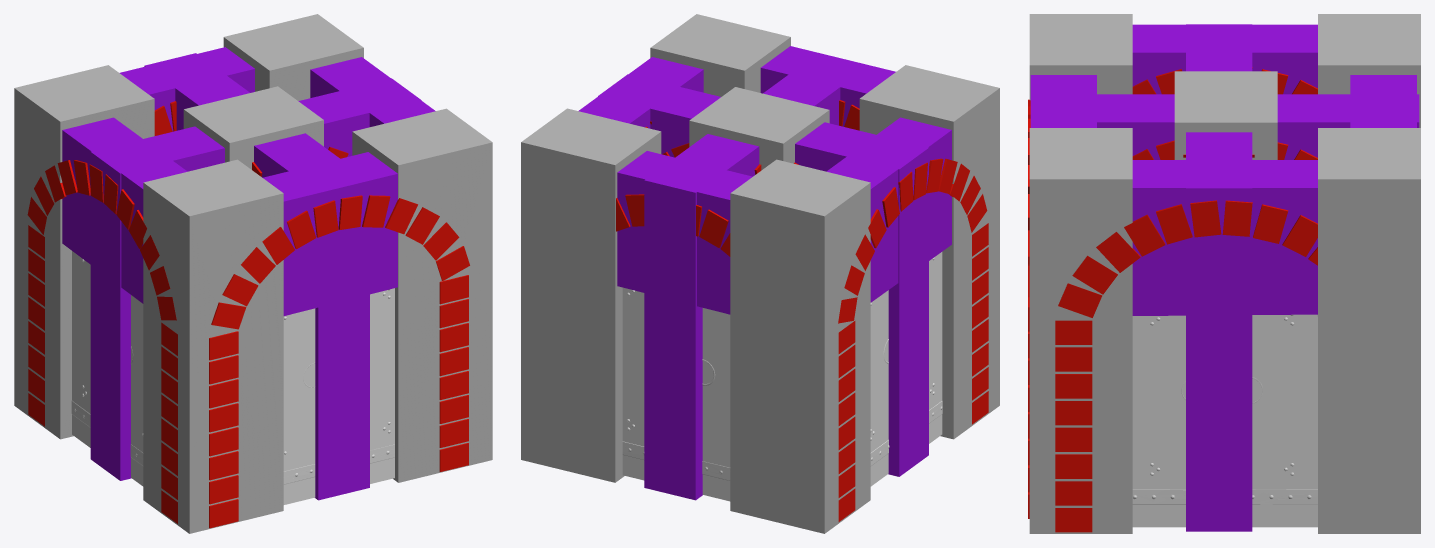
The model's file is group acrh pillars.fbx.
3 renders of one model, left to right at view 1: azimuth 30°, elevation 25°; view 2: azimuth 150°, elevation 25°; view 3: azimuth 270°, elevation 25°, orthographic. The views are drawn at different scales.
Visible parts, largest first — view 1: Pillar.001, Arch Way.004, Pillar, Pillar.003, Arch Way.002, Arch Way.005, Arch Way, og dOOR.005, Pillar.002, Pillar.004, og dOOR.003, Arch Way.003 (+1 smaller); view 2: Pillar.003, Pillar.002, Arch Way, Pillar.001, Arch Way.002, Arch Way.005, Arch Way.003, og dOOR.004, Pillar, Pillar.004, og dOOR.003, Arch Way.001 (+1 smaller); view 3: Pillar.002, Arch Way.001, Pillar, Arch Way.005, og dOOR.002, Arch Way, Arch Way.002, Pillar.004, Pillar.001, Pillar.003, Arch Way.003, Arch Way.004.
Boxes of the visible parts, x1,y1,x2,y2 form: Pillar.001: (143, 159, 283, 533); Arch Way.004: (209, 152, 469, 528); Pillar: (352, 108, 492, 482); Pillar.003: (14, 65, 154, 439); Arch Way.002: (27, 117, 187, 523); Arch Way.005: (90, 78, 421, 480); Arch Way: (144, 53, 369, 500); og dOOR.005: (283, 288, 394, 504); Pillar.002: (223, 14, 363, 100); Pillar.004: (183, 86, 323, 169); og dOOR.003: (71, 251, 143, 486); Arch Way.003: (120, 47, 254, 135); Pillar.003: (730, 159, 870, 533); Pillar.002: (521, 108, 661, 482); Arch Way: (644, 53, 869, 500); Pillar.001: (859, 65, 999, 439); Arch Way.002: (827, 117, 988, 521); Arch Way.005: (598, 74, 928, 476); Arch Way.003: (616, 151, 752, 314); og dOOR.004: (622, 287, 730, 501); Pillar: (650, 14, 790, 96); Pillar.004: (689, 87, 829, 170); og dOOR.003: (870, 252, 942, 486); Arch Way.001: (578, 57, 703, 128); Pillar.002: (1318, 128, 1420, 533); Arch Way.001: (1055, 160, 1317, 532); Pillar: (1029, 128, 1132, 533); Arch Way.005: (1183, 24, 1254, 531); og dOOR.002: (1132, 314, 1317, 527); Arch Way: (1031, 94, 1419, 159); Arch Way.002: (1132, 24, 1317, 94); Pillar.004: (1174, 71, 1277, 159); Pillar.001: (1029, 14, 1132, 100); Pillar.003: (1318, 14, 1420, 127); Arch Way.003: (1350, 75, 1416, 127); Arch Way.004: (1028, 75, 1096, 518).
Size of the model in its own units: 100 by 100 by 100.
